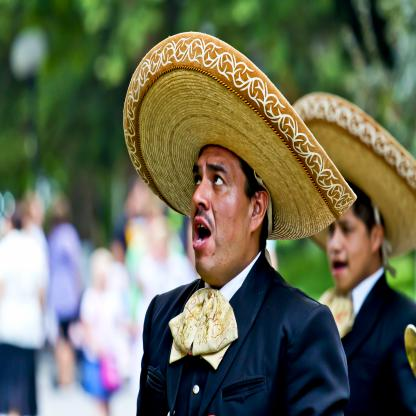Eye: (211, 173, 226, 190), (342, 223, 353, 236), (194, 173, 202, 189), (327, 225, 335, 235)
Mouth: (192, 217, 212, 251), (331, 257, 351, 274)
Nose: (193, 179, 210, 210), (329, 230, 341, 255)
